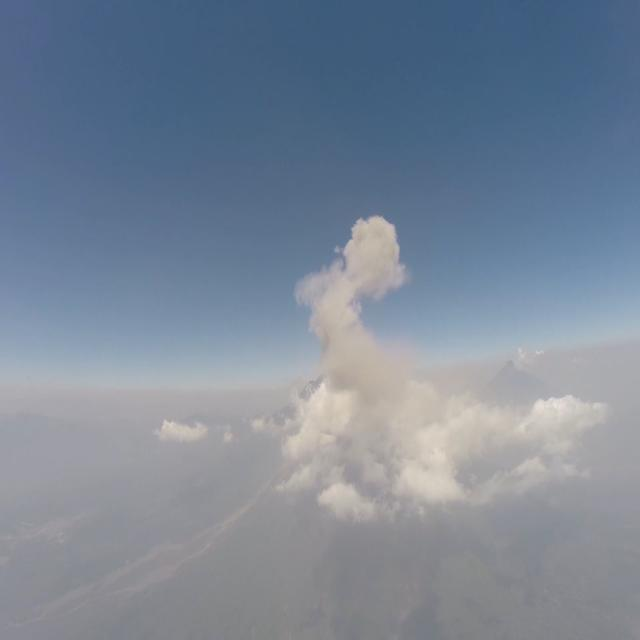Plume: (298, 212, 412, 420)
